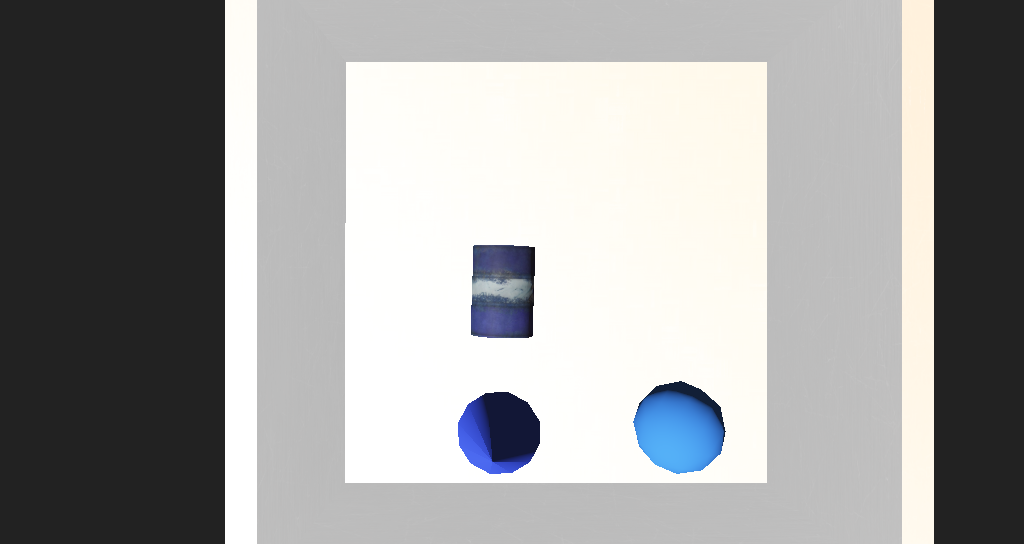cone: (438, 253, 492, 301)
cylinder: (418, 327, 499, 389)
sphere: (563, 320, 623, 367)
